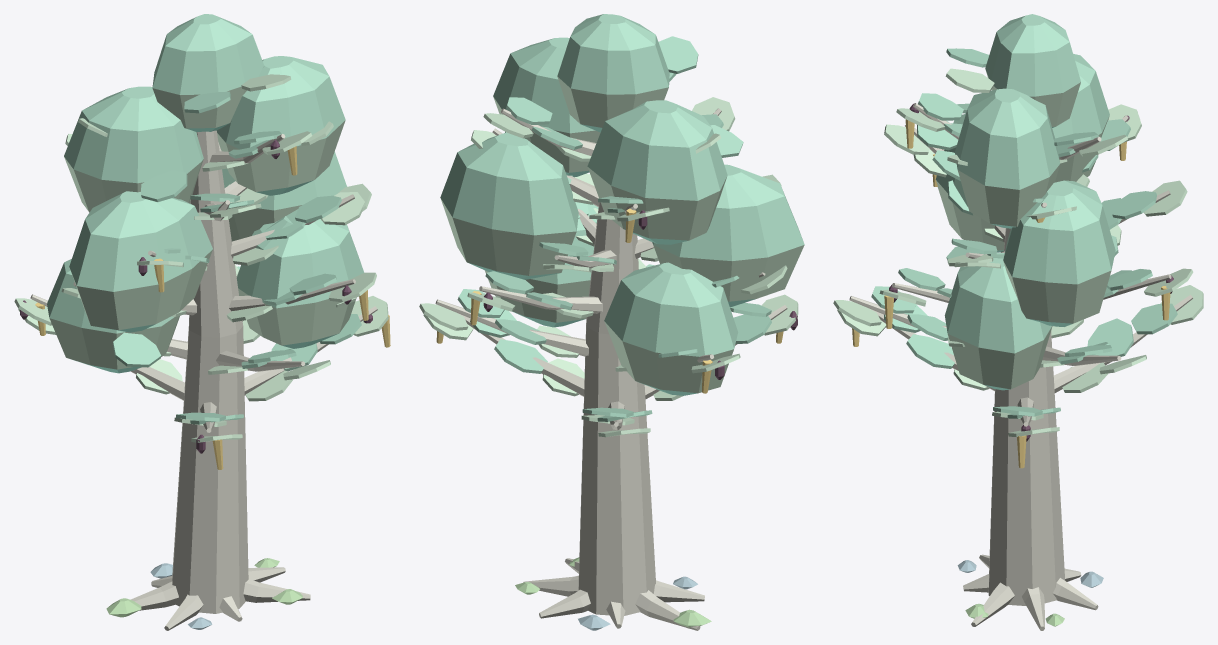
Rendered from lagoon_tree_red_alder.glb.
The picture shows the model from 3 angles, left to right: view 1: azimuth 30°, elevation 25°; view 2: azimuth 150°, elevation 25°; view 3: azimuth 270°, elevation 25°; orthographic projection. The views are drawn at different scales.
Visible parts, largest first — view 1: lagoon_tree_red_alder.001; view 2: lagoon_tree_red_alder.001; view 3: lagoon_tree_red_alder.001.
Part boxes in pixels (x1,y1,x2,y2): lagoon_tree_red_alder.001: [14, 14, 390, 630]; lagoon_tree_red_alder.001: [419, 14, 804, 630]; lagoon_tree_red_alder.001: [833, 14, 1203, 630].
Size of the model in its own units: 5.5 by 8.92 by 5.23.
